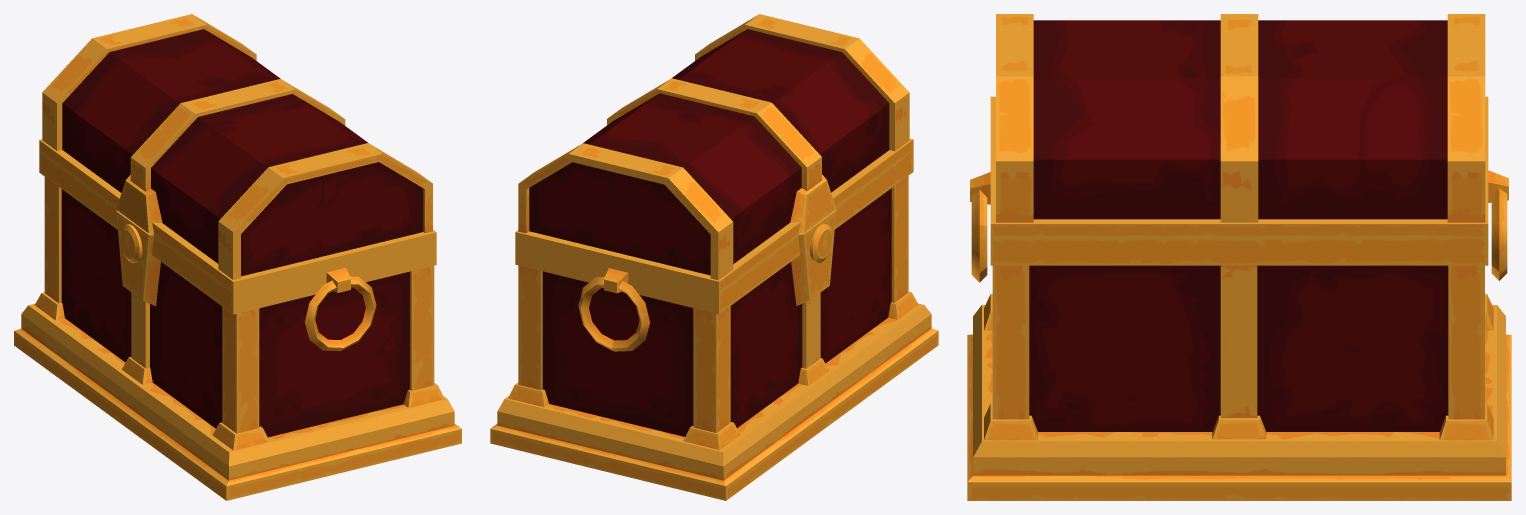
File: TreasureChest2.fbx
3 renders of one model, left to right at view 1: azimuth 30°, elevation 25°; view 2: azimuth 150°, elevation 25°; view 3: azimuth 270°, elevation 25°, orthographic. The views are drawn at different scales.
Visible parts, largest first — view 1: TreasureChest2, TreasureChestLid; view 2: TreasureChest2, TreasureChestLid; view 3: TreasureChest2, TreasureChestLid.
Boxes of the visible parts, left/top/right/bottom form: TreasureChest2: left=14, top=150, right=461, bottom=500; TreasureChestLid: left=39, top=14, right=436, bottom=292; TreasureChest2: left=490, top=150, right=938, bottom=500; TreasureChestLid: left=515, top=14, right=913, bottom=291; TreasureChest2: left=967, top=170, right=1511, bottom=500; TreasureChestLid: left=990, top=14, right=1488, bottom=237.
Bounding box in the file's own units: 70 × 84.69 × 109.
